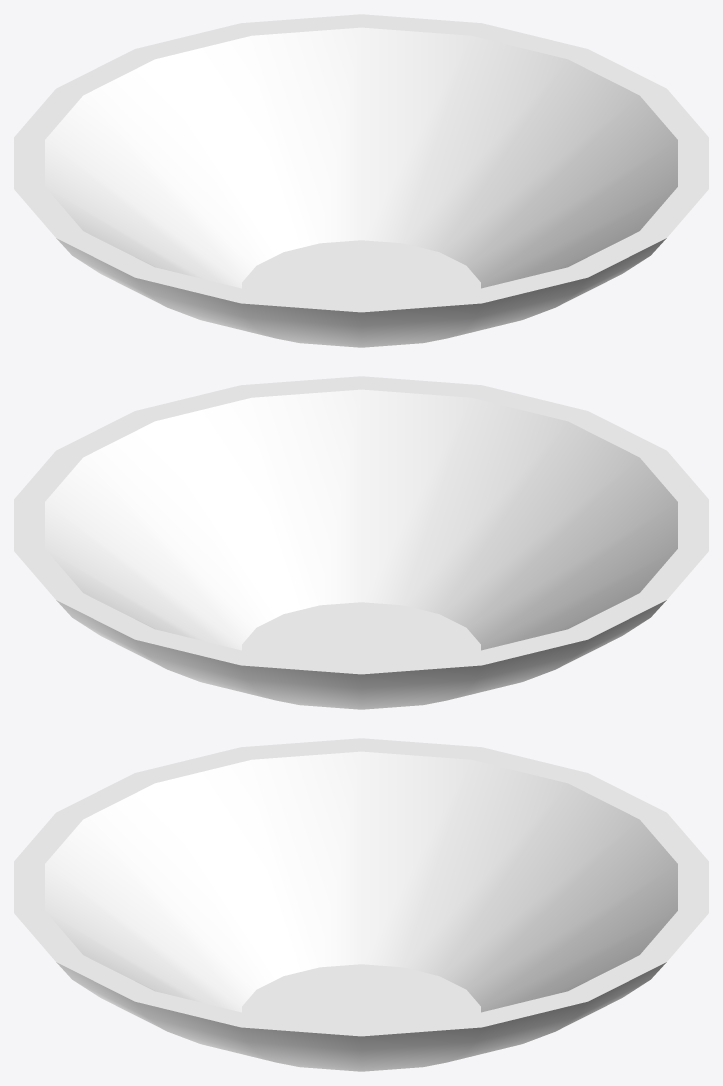
The model's file is Salad bowl.FBX.
3 renders of one model, top to bottom at view 1: azimuth 30°, elevation 25°; view 2: azimuth 150°, elevation 25°; view 3: azimuth 270°, elevation 25°, orthographic.
Parts seen in each view (by area): view 1: salad bowl; view 2: salad bowl; view 3: salad bowl.
Boxes of the visible parts, left/top/right/bottom form: salad bowl: left=14, top=14, right=708, bottom=347; salad bowl: left=14, top=376, right=708, bottom=709; salad bowl: left=14, top=738, right=708, bottom=1071.
Size of the model in its own units: 9.8 by 2.18 by 9.65.
1 material, 1 textured.
